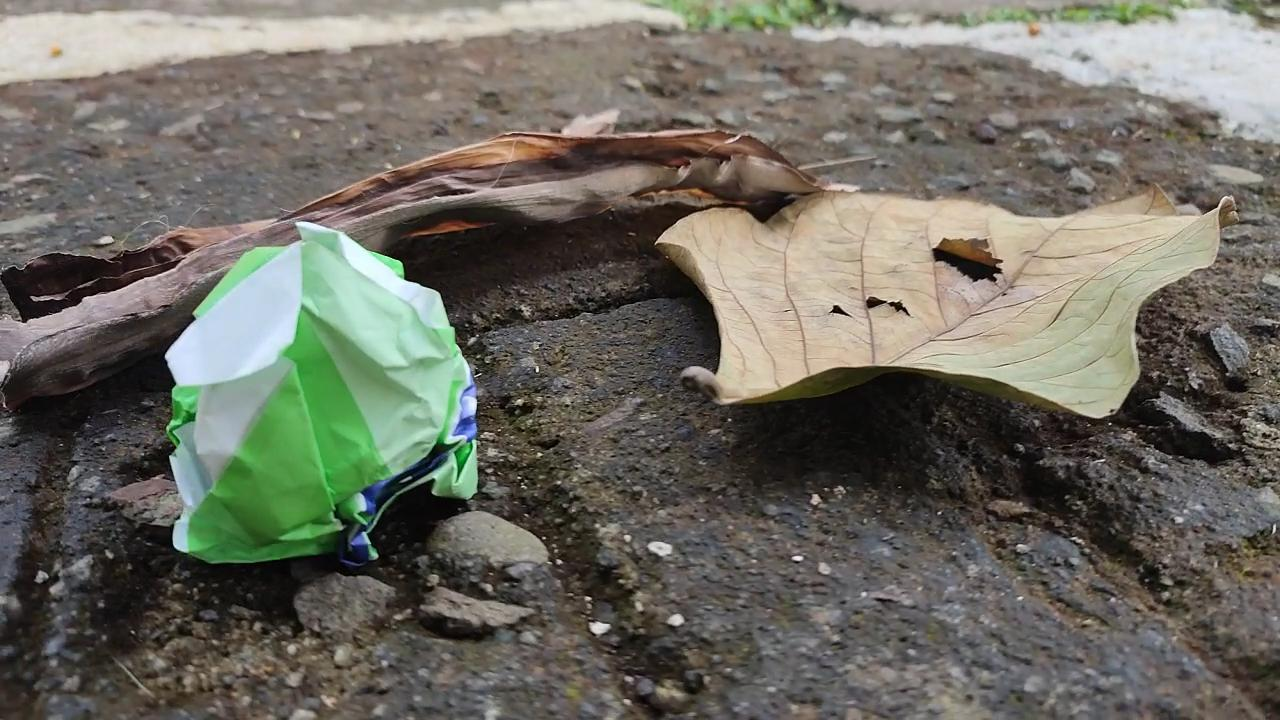Paper: (153, 227, 491, 555)
